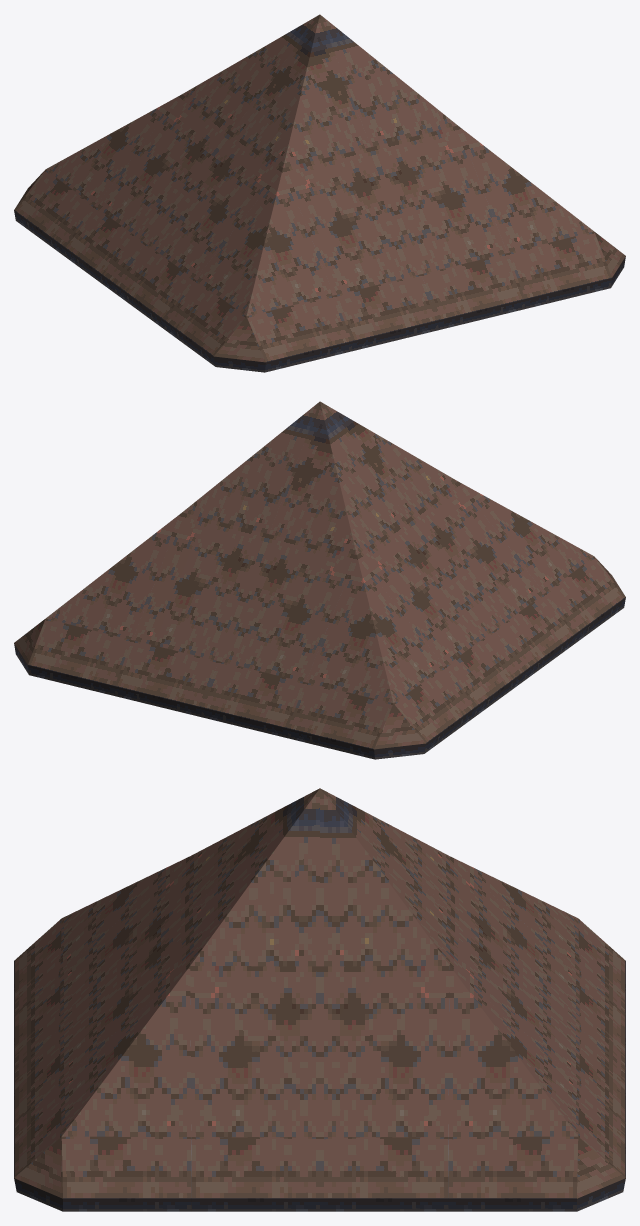
File: roof_red_square.glb
The picture shows the model from 3 angles, top to bottom: view 1: azimuth 30°, elevation 25°; view 2: azimuth 150°, elevation 25°; view 3: azimuth 270°, elevation 25°; orthographic projection. The views are drawn at different scales.
Visible parts, largest first — view 1: roof_red_square; view 2: roof_red_square; view 3: roof_red_square.
Part boxes in pixels (x1=…): roof_red_square: x1=14, y1=14, x2=625, y2=372; roof_red_square: x1=14, y1=401, x2=625, y2=759; roof_red_square: x1=14, y1=788, x2=625, y2=1211.
Bounding box in the file's own units: 5.96 × 3.17 × 5.96.
Materials: 1 (1 with a texture image).
